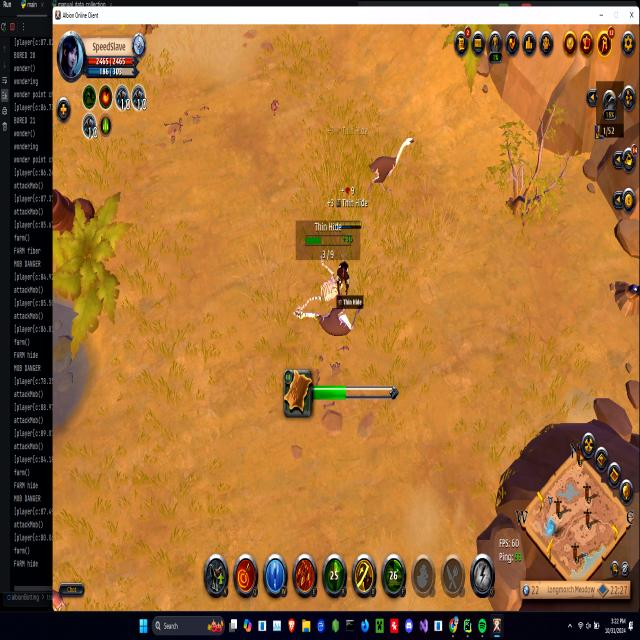mob: (293, 280, 362, 342)
ore: (366, 133, 414, 201)
player: (611, 268, 640, 321)
red: (333, 216, 361, 295)
